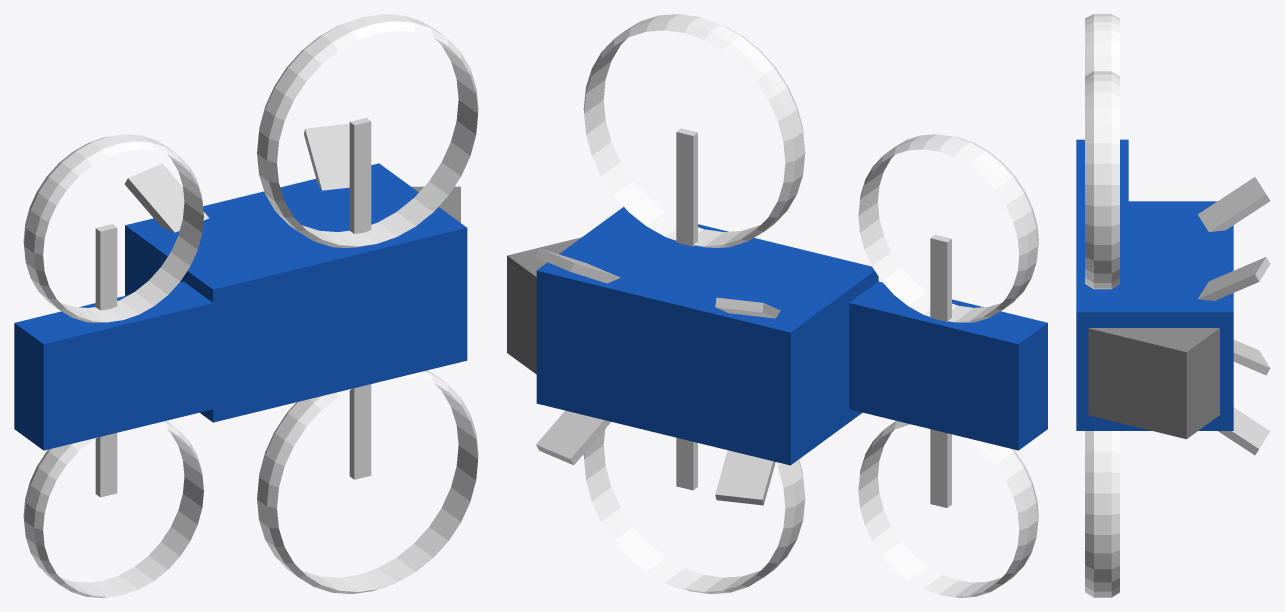
File: aguila.glb
The picture shows the model from 3 angles, left to right: view 1: azimuth 30°, elevation 25°; view 2: azimuth 150°, elevation 25°; view 3: azimuth 270°, elevation 25°; orthographic projection. The views are drawn at different scales.
Visible parts, largest first — view 1: cabina, cola, rotor_NW, rotor_NE, rotor_SW, rotor_SE, soporte_N, soporte_S, pata_SW, pata_NW; view 2: cabina, cola, rotor_NW, rotor_SW, rotor_SE, rotor_NE, cockpit, soporte_N, soporte_S, pata_SE, pata_NE, pata_NW (+1 smaller); view 3: cabina, cockpit, rotor_NW, rotor_NE, rotor_SW, pata_SW, pata_NW, pata_NE, cola, pata_SE.
Part boxes in pixels (x1,y1,x2,y2): cabina: (125,163,467,422); cola: (14,281,212,450); rotor_NW: (257,14,478,247); rotor_NE: (257,370,478,593); rotor_SW: (23,134,203,322); rotor_SE: (23,421,203,597); soporte_N: (349,117,371,479); soporte_S: (95,224,117,497); pata_SW: (124,163,209,232); pata_NW: (304,123,349,190); cabina: (536,207,878,465); cola: (849,281,1047,450); rotor_NW: (583,14,805,247); rotor_SW: (858,134,1038,322); rotor_SE: (858,421,1038,597); rotor_NE: (583,429,805,594); cockpit: (507,237,581,374); soporte_N: (676,128,697,490); soporte_S: (930,234,951,507); pata_SE: (715,450,775,505); pata_NE: (536,410,610,465); pata_NW: (536,248,620,283); cabina: (1076,201,1233,430); cockpit: (1088,328,1219,439); rotor_NW: (1085,71,1119,289); rotor_NE: (1085,431,1119,597); rotor_SW: (1085,14,1119,76); pata_SW: (1198,177,1270,232); pata_NW: (1198,257,1270,300); pata_NE: (1218,407,1270,455); cola: (1076,139,1128,201); pata_SE: (1233,339,1270,375).
Bounding box in the file's own units: 5.66 × 6.4 × 2.22.
